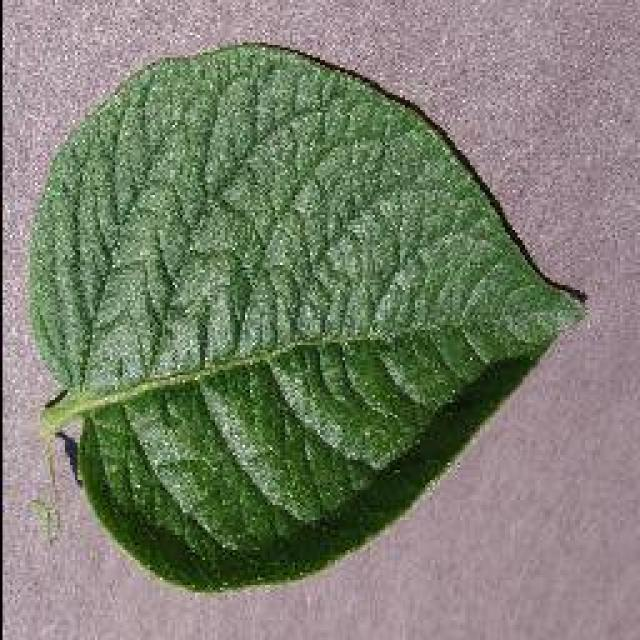Potato___healthy: (26, 40, 591, 596)
